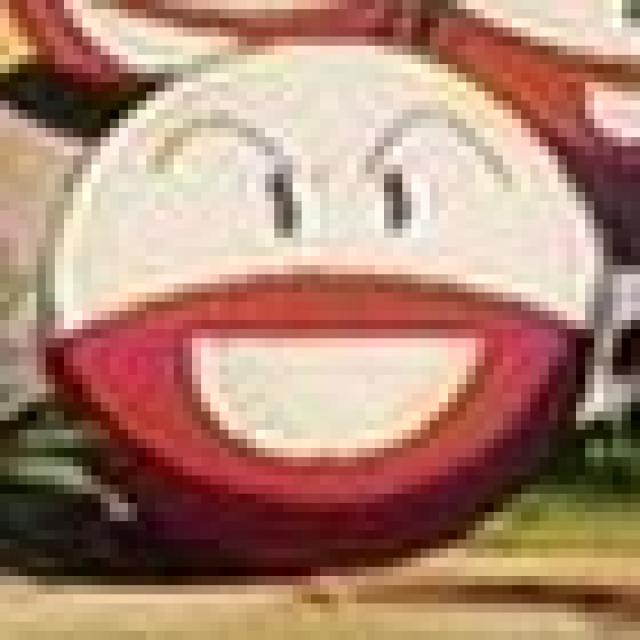Electrode: (40, 31, 619, 572)
